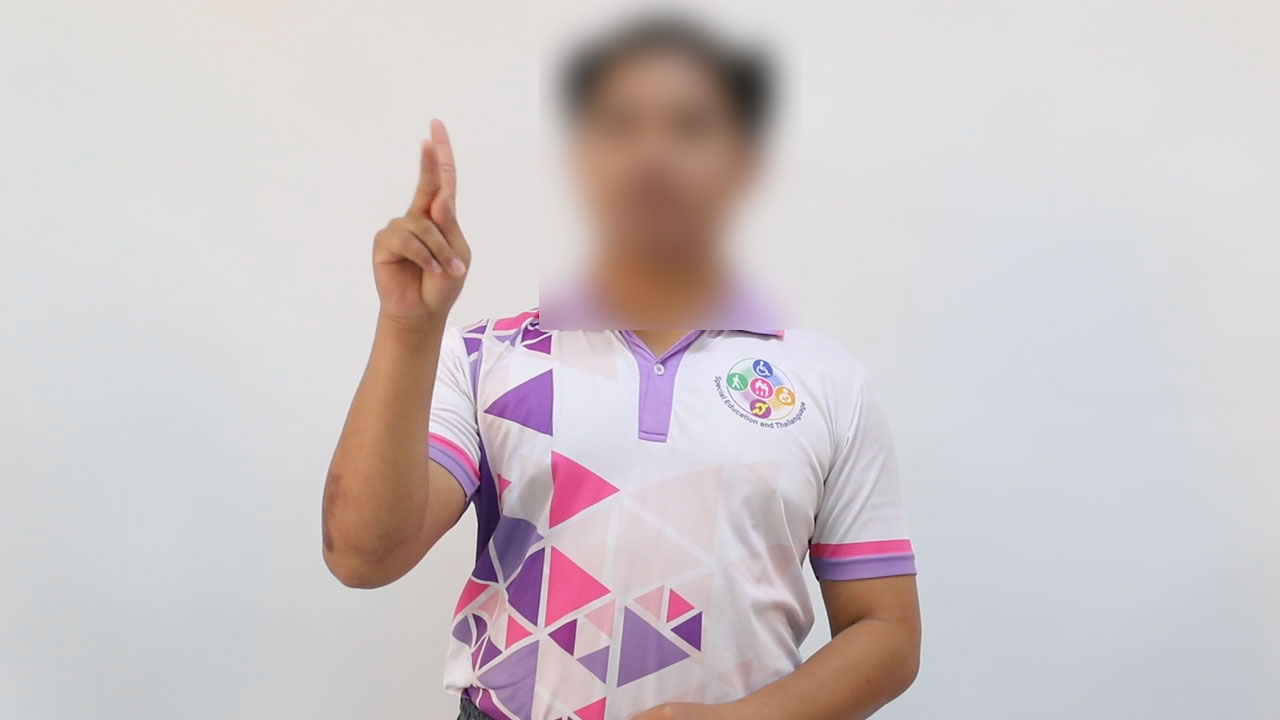ko: (355, 99, 481, 335)
